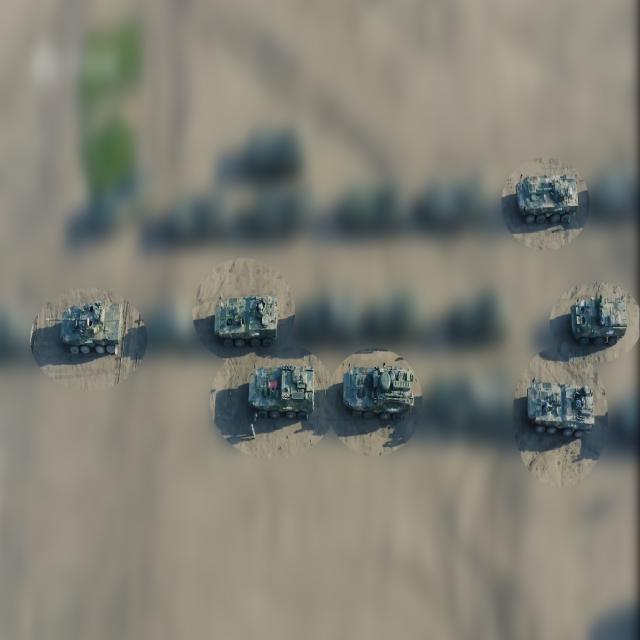tank: (41, 288, 125, 360), (522, 369, 598, 446), (339, 360, 416, 420), (246, 364, 322, 420), (514, 170, 580, 232), (567, 288, 629, 352), (212, 296, 282, 350)
